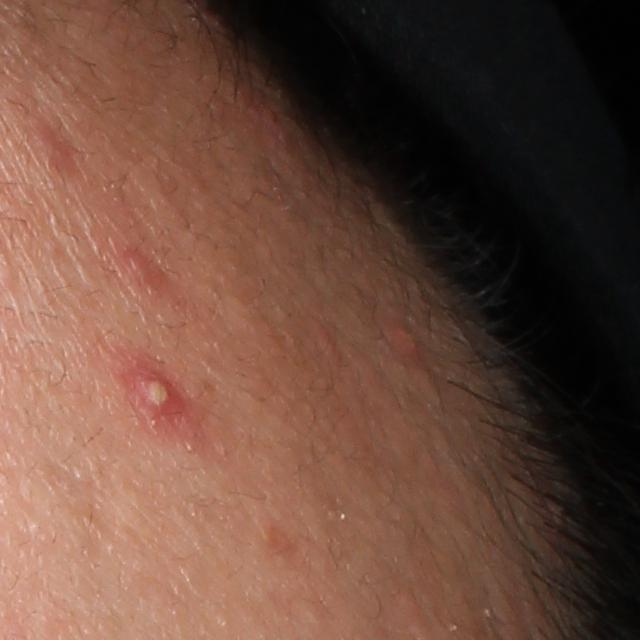papule: (22, 116, 76, 170), (118, 242, 157, 292), (387, 323, 419, 358)
pustule: (118, 361, 184, 423)
